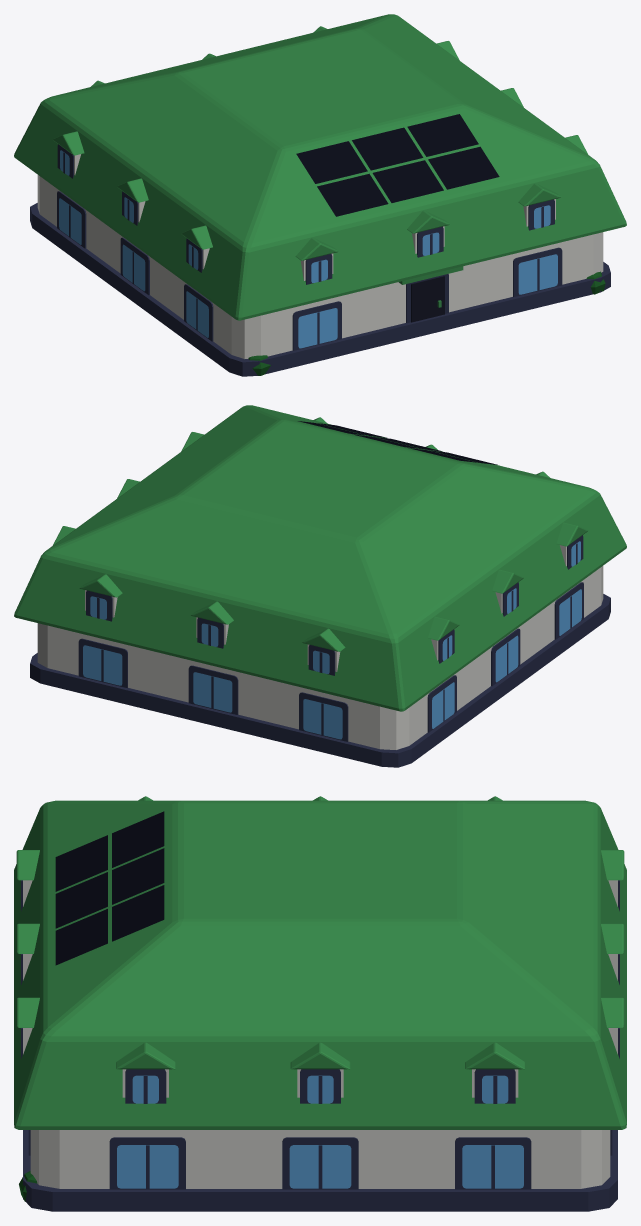
The model's file is house-2x2-1f-mansard-a-solar.glb.
3 views of the same model, one above another, from view 1: azimuth 30°, elevation 25°; view 2: azimuth 150°, elevation 25°; view 3: azimuth 270°, elevation 25° (orthographic). The views are drawn at different scales.
Parts seen in each view (by area): view 1: house-2x2-1f-mansard-a-solar; view 2: house-2x2-1f-mansard-a-solar; view 3: house-2x2-1f-mansard-a-solar.
Boxes of the visible parts, left/top/right/bottom form: house-2x2-1f-mansard-a-solar: left=14, top=14, right=626, bottom=376; house-2x2-1f-mansard-a-solar: left=14, top=405, right=626, bottom=767; house-2x2-1f-mansard-a-solar: left=14, top=796, right=626, bottom=1211.
Bounding box in the file's own units: 1.99 × 0.8052 × 1.99.
1 material, 1 textured.
